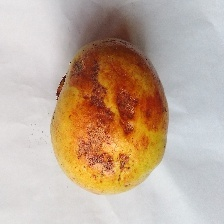guava: (50, 31, 206, 174)
